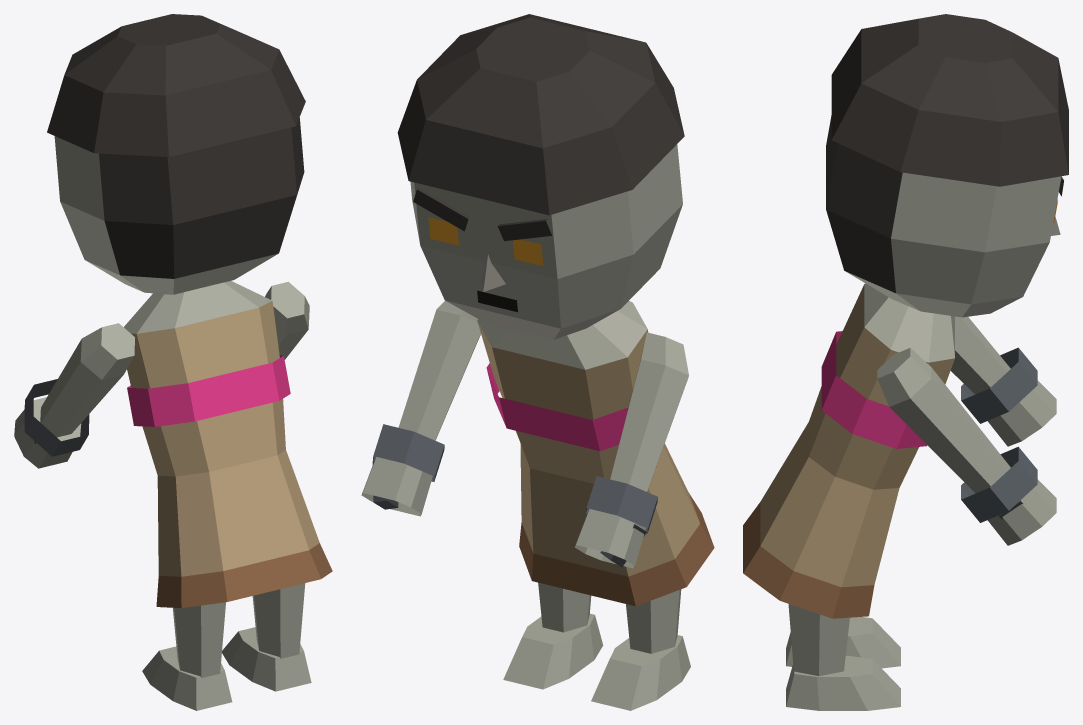
Rendered from EN_Convict.fbx.
3 renders of one model, left to right at view 1: azimuth 30°, elevation 25°; view 2: azimuth 150°, elevation 25°; view 3: azimuth 270°, elevation 25°, orthographic. The views are drawn at different scales.
Parts seen in each view (by area): view 1: Head, Body, ArmL, LegL, LegR, ArmR; view 2: Head, Body, ArmL, ArmR, LegL, LegR; view 3: Head, Body, ArmR, LegR, ArmL, LegL.
Part boxes in pixels (x1,y1,x2,y2): Head: (47,14,305,294); Body: (124,281,332,608); ArmL: (14,323,134,468); LegL: (142,602,232,710); LegR: (222,583,311,691); ArmR: (265,281,309,359); Head: (397,14,684,339); Body: (477,301,714,606); ArmL: (575,332,688,568); ArmR: (361,300,480,516); LegL: (591,589,690,710); LegR: (503,582,603,689); Head: (826,14,1068,317); Body: (743,283,954,618); ArmR: (877,347,1056,545); LegR: (786,604,900,710); ArmL: (950,316,1056,446); LegL: (786,617,900,668).
Size of the model in its own units: 0.5498 by 0.592 by 1.29.
